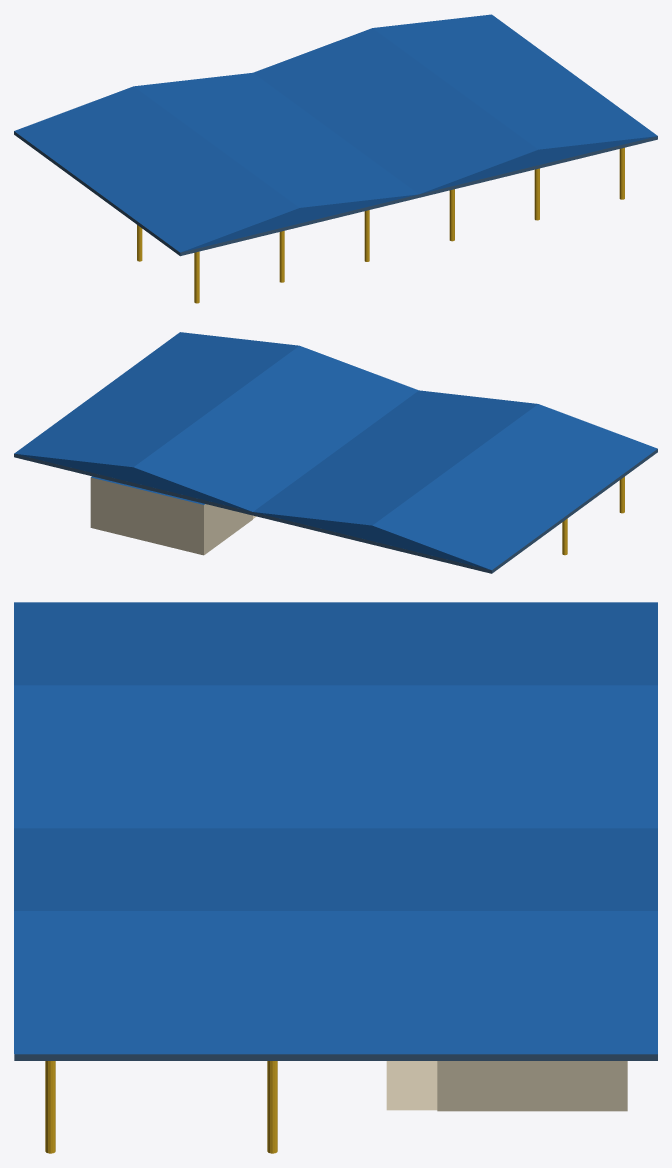
3 renders of one model, top to bottom at view 1: azimuth 30°, elevation 25°; view 2: azimuth 150°, elevation 25°; view 3: azimuth 270°, elevation 25°, orthographic. The views are drawn at different scales.
Parts seen in each view (by area): view 1: facility-1436367111__roofAccent, facility-1436367111__canopy, facility-1436367111__column; view 2: facility-1436367111__roofAccent, facility-1436367111__wall2, facility-1436367111__canopy, facility-1436367111__column; view 3: facility-1436367111__roofAccent, facility-1436367111__wall2, facility-1436367111__canopy, facility-1436367111__entranceThreshold_0, facility-1436367111__column.
Boxes of the visible parts, x1,y1,x2,y2 form: facility-1436367111__roofAccent: (14,14,657,252); facility-1436367111__canopy: (14,131,657,256); facility-1436367111__column: (137,147,624,303); facility-1436367111__roofAccent: (14,332,657,570); facility-1436367111__wall2: (90,477,252,555); facility-1436367111__canopy: (14,449,657,573); facility-1436367111__column: (562,476,624,555); facility-1436367111__roofAccent: (14,602,657,1053); facility-1436367111__wall2: (437,1061,627,1111); facility-1436367111__canopy: (14,1054,657,1060); facility-1436367111__entranceThreshold_0: (386,1061,437,1110); facility-1436367111__column: (45,1061,277,1153).
Size of the model in its own units: 33.71 by 5.7 by 20.3.
